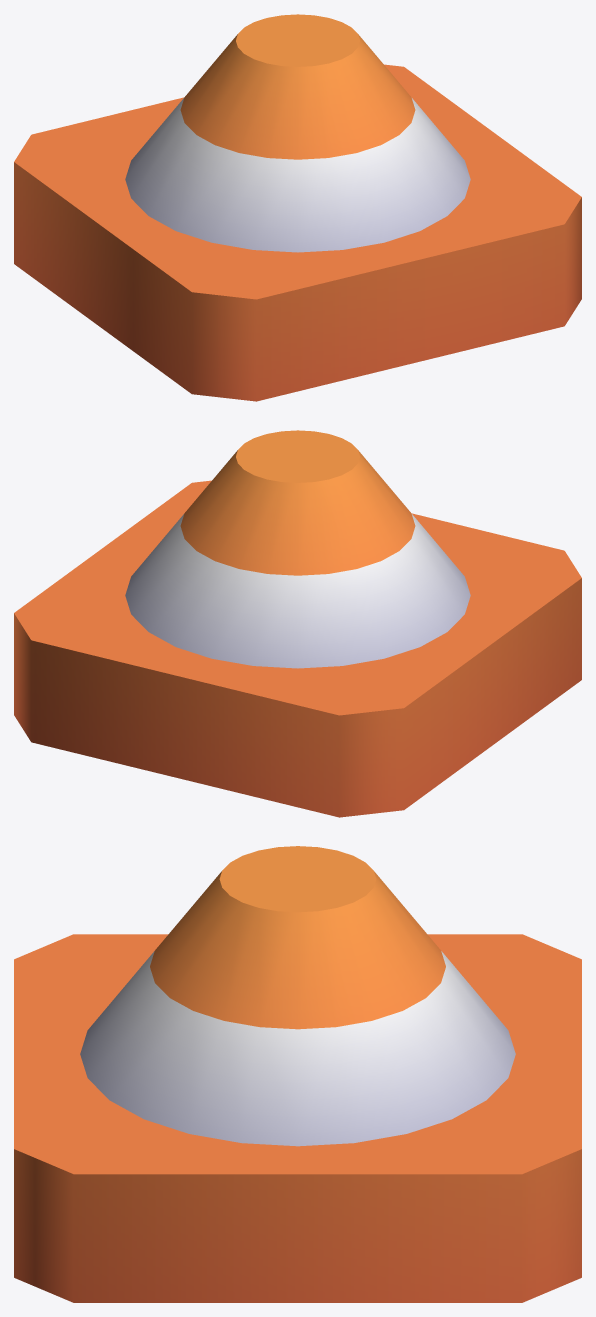
Rendered from cone-flat.glb.
The picture shows the model from 3 angles, top to bottom: view 1: azimuth 30°, elevation 25°; view 2: azimuth 150°, elevation 25°; view 3: azimuth 270°, elevation 25°; orthographic projection. The views are drawn at different scales.
Parts seen in each view (by area): view 1: cone-flat; view 2: cone-flat; view 3: cone-flat.
Boxes of the visible parts, bbox=[...] form: cone-flat: bbox=[14, 14, 581, 401]; cone-flat: bbox=[14, 430, 581, 817]; cone-flat: bbox=[14, 846, 581, 1302].
Bounding box in the file's own units: 0.4762 × 0.281 × 0.4762.
Materials: 1 (1 with a texture image).
